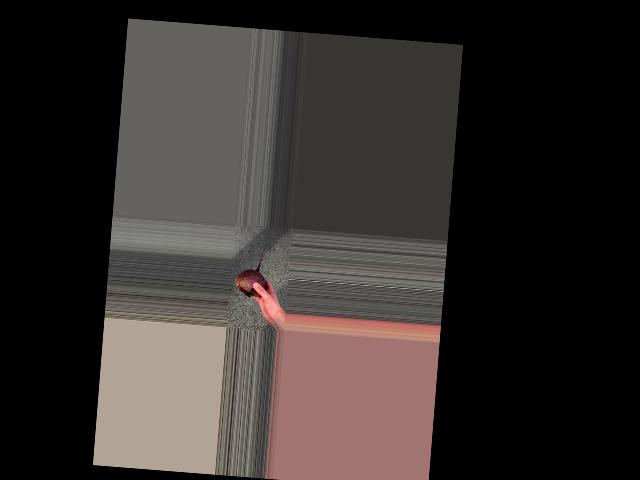beet: (234, 241, 268, 297)
